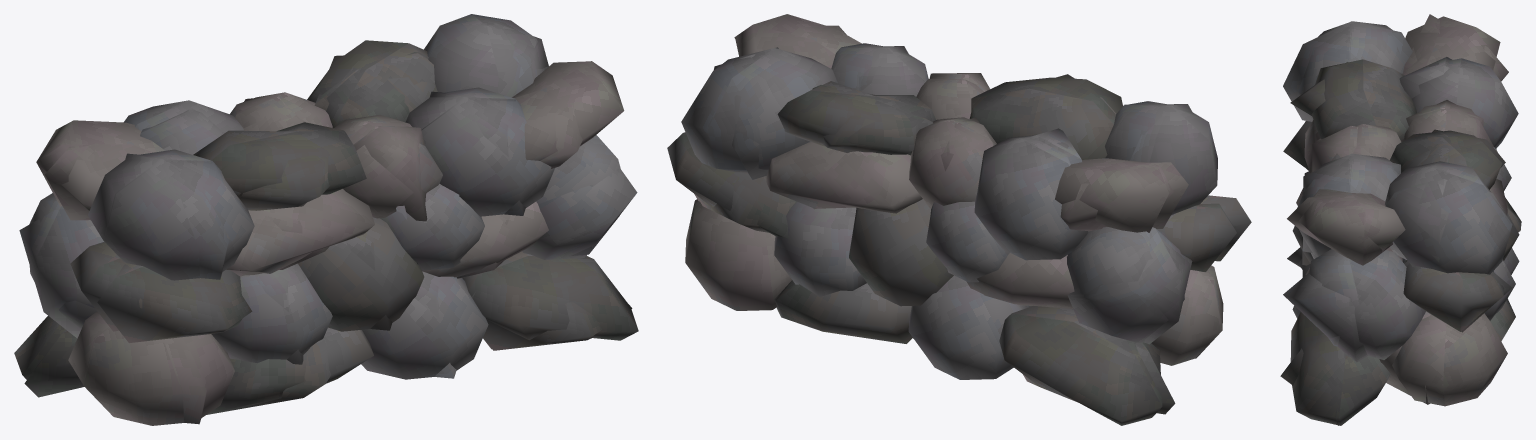
File: stone_fence.glb
The picture shows the model from 3 angles, left to right: view 1: azimuth 30°, elevation 25°; view 2: azimuth 150°, elevation 25°; view 3: azimuth 270°, elevation 25°; orthographic projection. The views are drawn at different scales.
Visible parts, largest first — view 1: geometry_0; view 2: geometry_0; view 3: geometry_0.
Part boxes in pixels (bbox=[...]): geometry_0: bbox=[14, 14, 638, 425]; geometry_0: bbox=[667, 14, 1251, 425]; geometry_0: bbox=[1280, 14, 1521, 425].
Size of the model in its own units: 2.33 by 1.13 by 1.08.
1 material, 1 textured.
